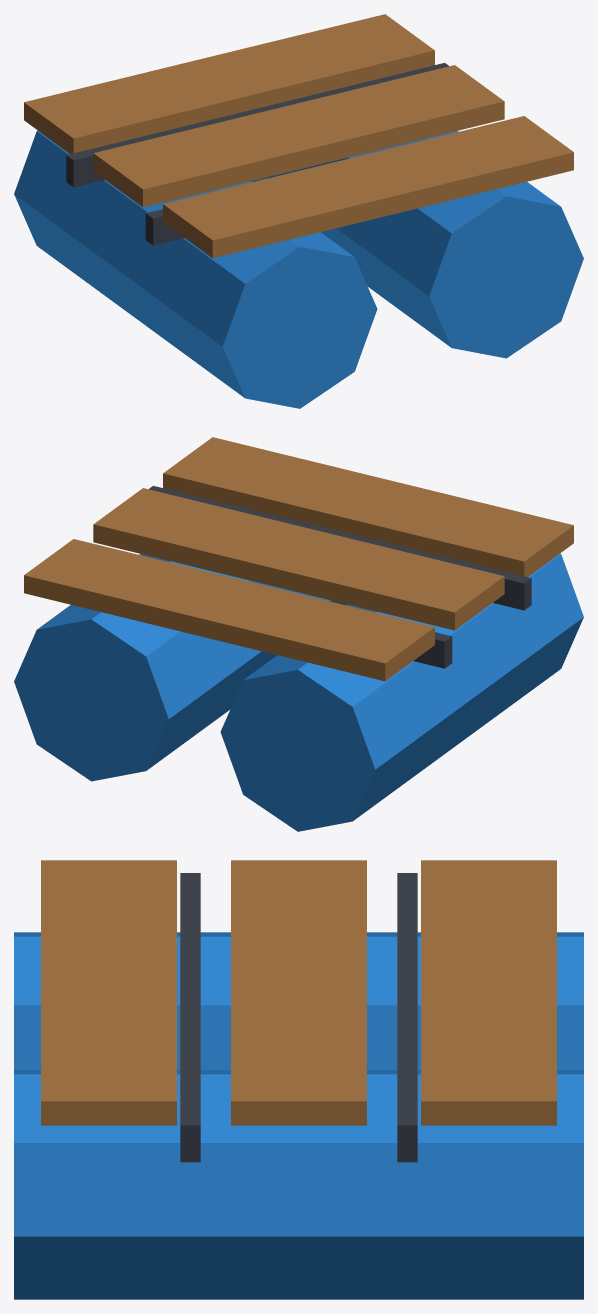
Rendered from bombona_flutuante.glb.
The picture shows the model from 3 angles, top to bottom: view 1: azimuth 30°, elevation 25°; view 2: azimuth 150°, elevation 25°; view 3: azimuth 270°, elevation 25°; orthographic projection. The views are drawn at different scales.
Visible parts, largest first — view 1: corpo; view 2: corpo; view 3: corpo.
Part boxes in pixels (x1,y1,x2,y2): corpo: (14,14,583,408); corpo: (14,437,583,831); corpo: (14,860,583,1299).
Size of the model in its own units: 0.44 by 0.2 by 0.42.
